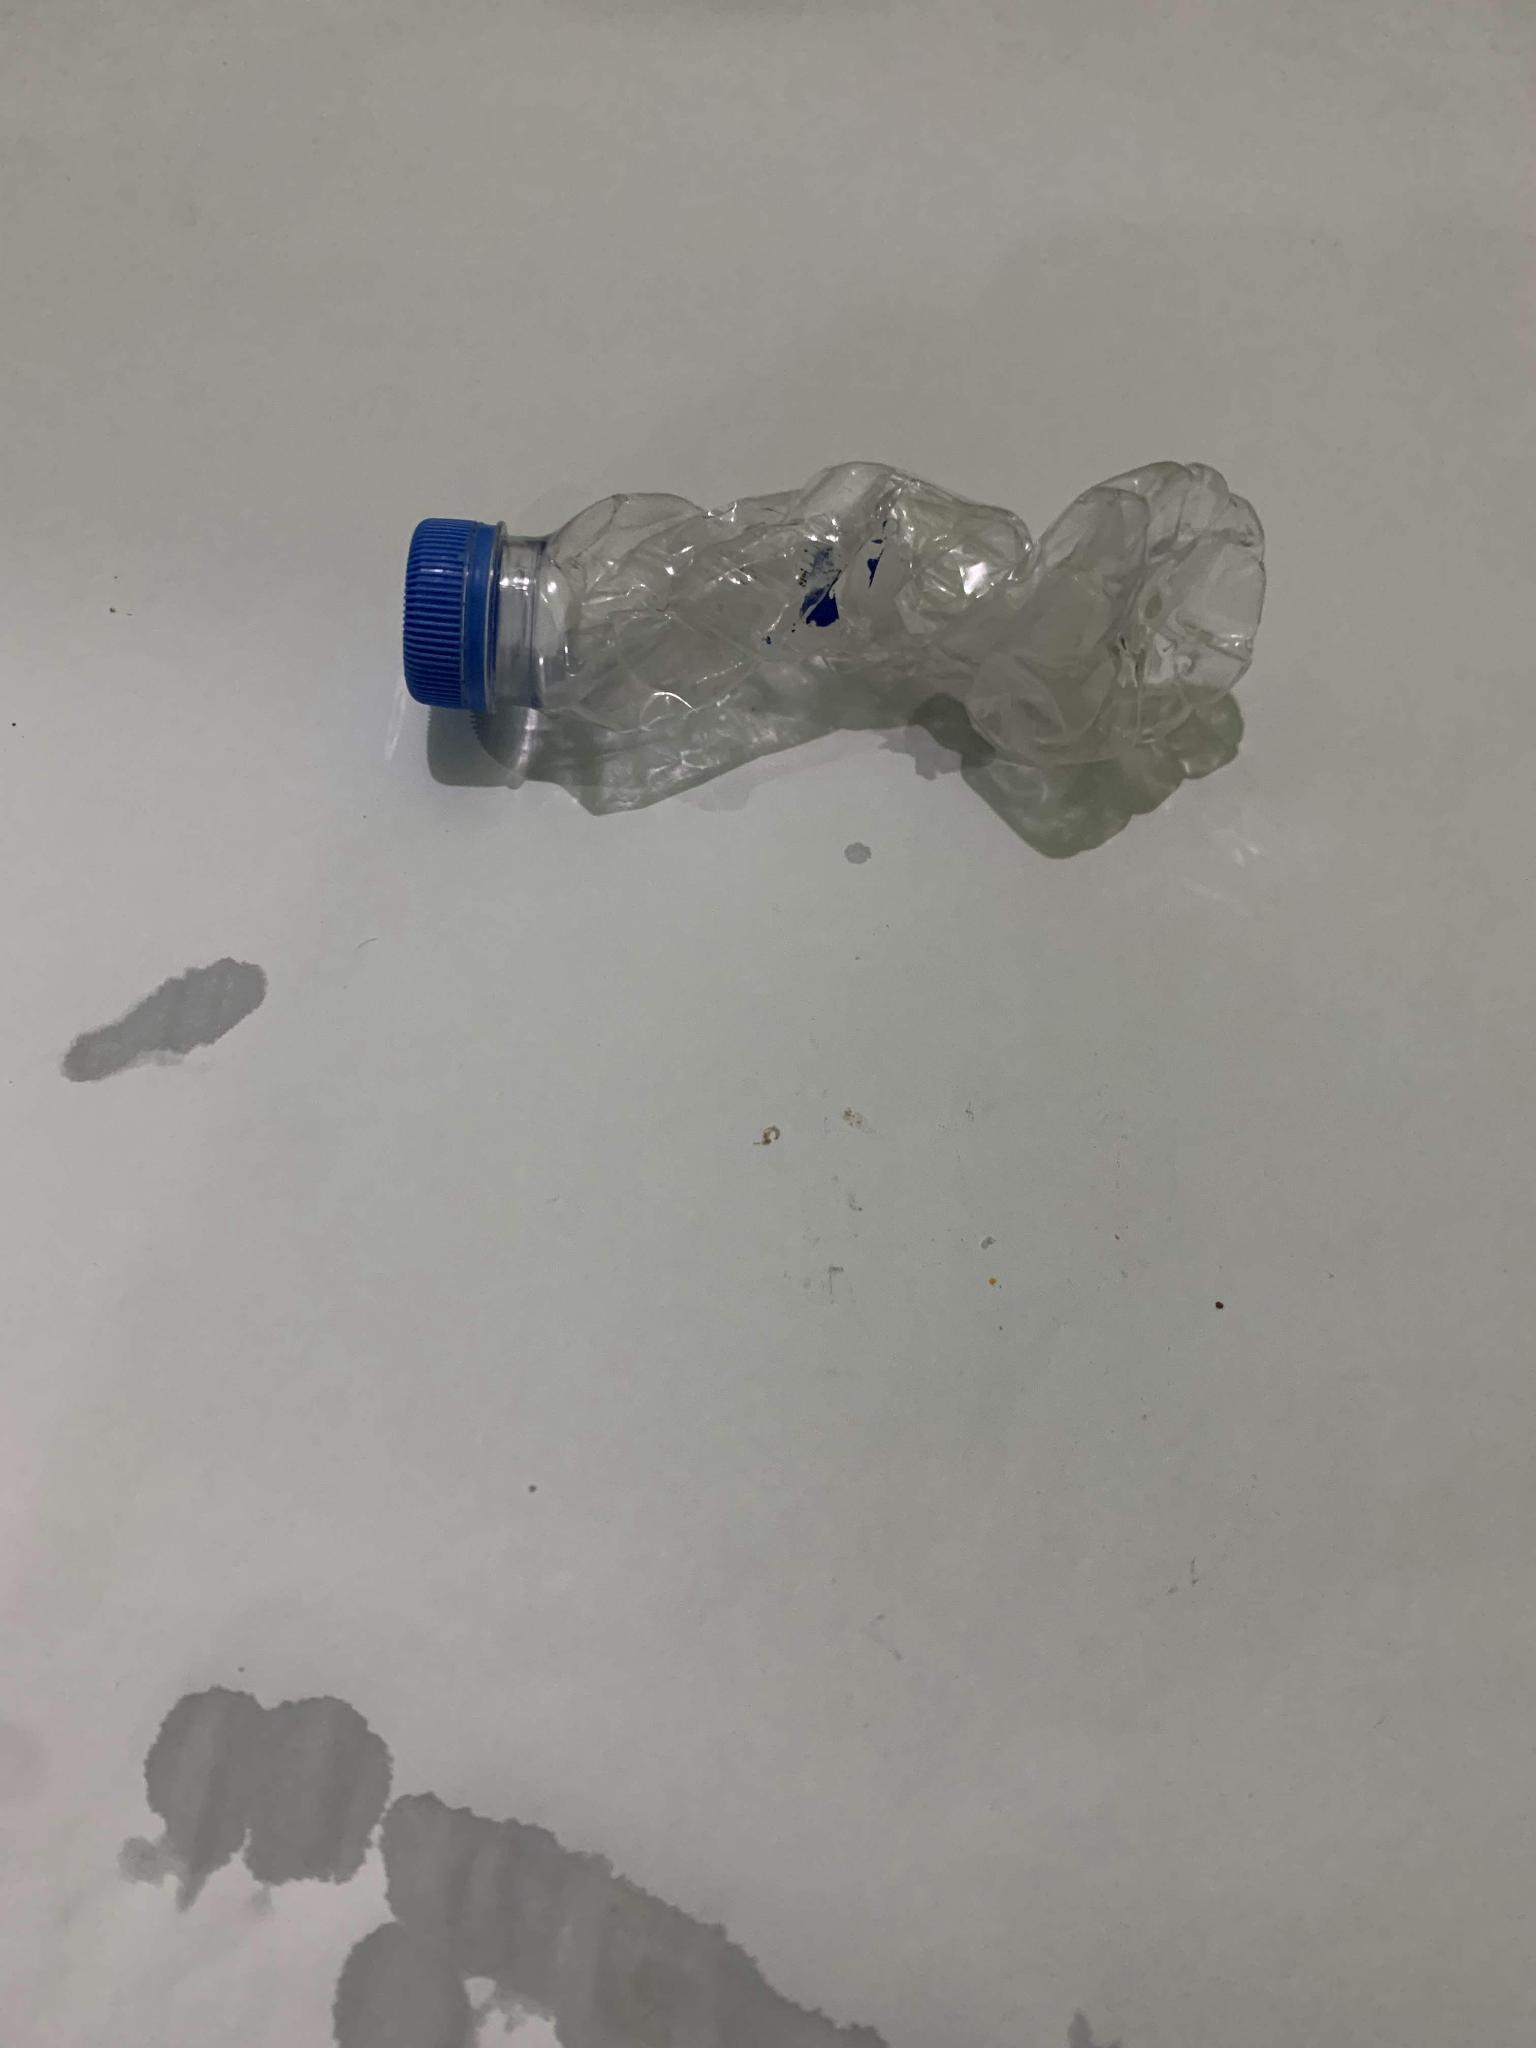bottle: (390, 406, 1305, 818)
